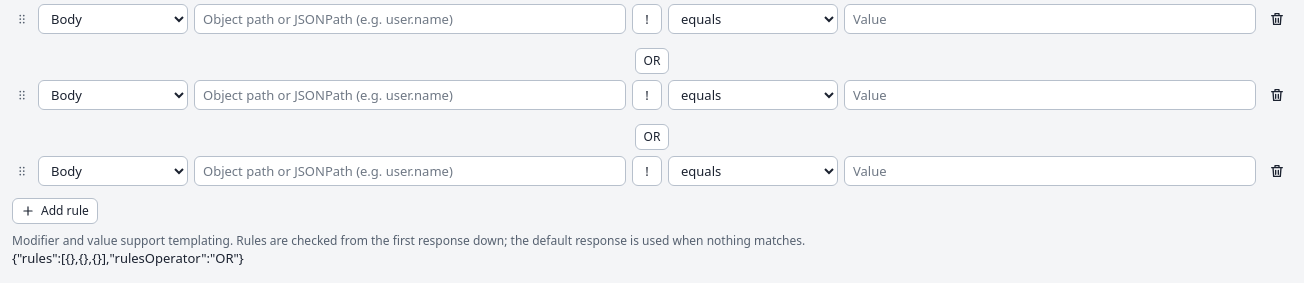
it: RulesEditor › AND/OR between rows changes rulesOperator
The width and height of the screenshot is (1304, 283).
Later steps or results of the test are not shown.
Expected: the button with aria-label "Combine rules with" reads "OR", [635,48,669,74]
Click the button with aria-label "Combine rules with": (652, 137) [635,124,669,150]
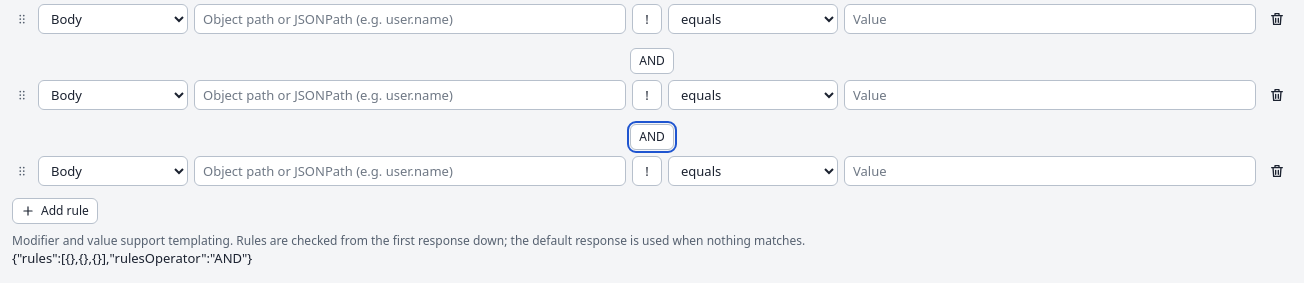
Expected: the button with aria-label "Combine rules with" reads "AND", [630,48,674,74]
